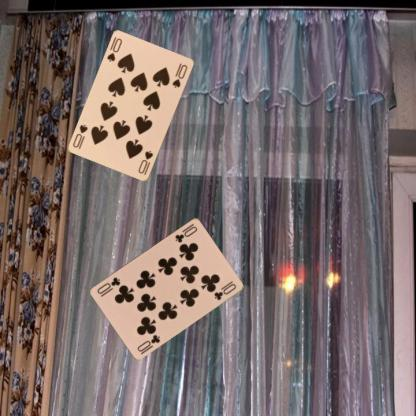10c: (135, 332, 162, 355), (172, 223, 199, 244)
10s: (136, 148, 154, 177), (105, 36, 124, 63)
